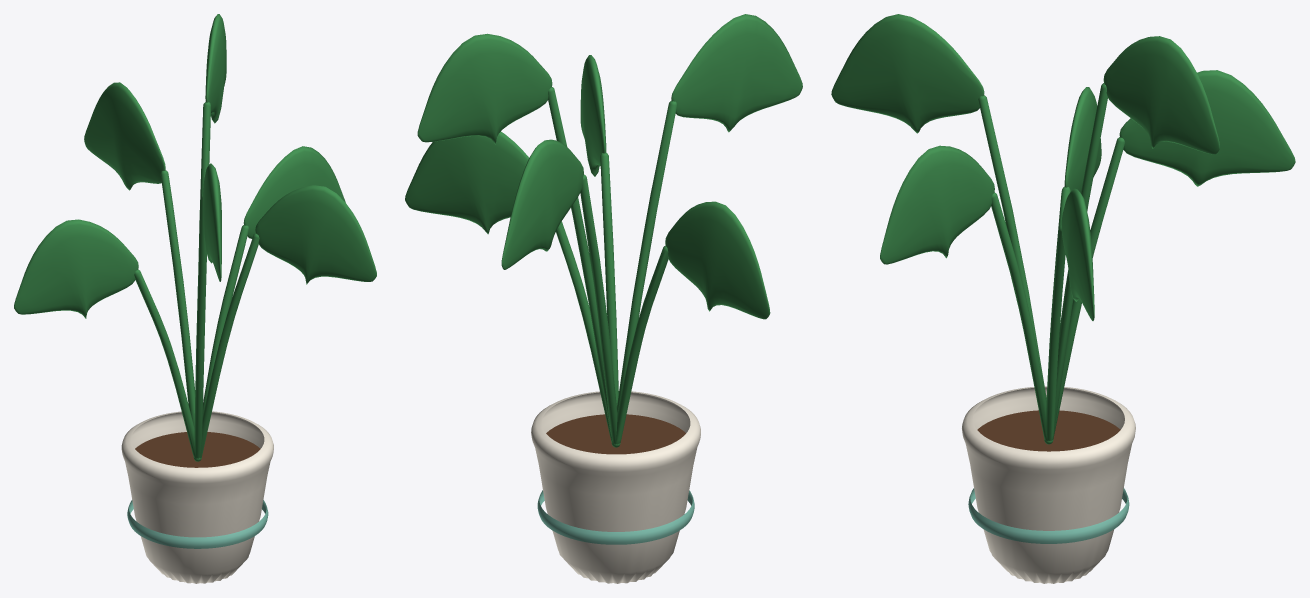
File: deco_monstera.glb
3 views of the same model, side by side, from view 1: azimuth 30°, elevation 25°; view 2: azimuth 150°, elevation 25°; view 3: azimuth 270°, elevation 25° (orthographic). The views are drawn at different scales.
Visible parts, largest first — view 1: matera.003, hoja monstera 2.001, hoja monstera 4.001, hoja monstera 1.001, hoja monstera 0.001, tierra.003, tallo monstera 1.001, tallo monstera 3.001, tallo monstera 4.001, raya matera.001, hoja monstera 5.001, hoja monstera 3.001 (+3 smaller); view 2: matera.003, hoja monstera 5.001, hoja monstera 3.001, hoja monstera 0.001, hoja monstera 2.001, hoja monstera 1.001, tierra.003, tallo monstera 3.001, tallo monstera 1.001, hoja monstera 4.001, raya matera.001, tallo monstera 4.001 (+3 smaller); view 3: matera.003, hoja monstera 3.001, hoja monstera 1.001, hoja monstera 5.001, hoja monstera 4.001, tierra.003, hoja monstera 0.001, tallo monstera 4.001, raya matera.001, hoja monstera 2.001, tallo monstera 5.001, tallo monstera 3.001 (+2 smaller).
Part boxes in pixels (x1,y1,x2,y2): matera.003: (121,411,273,583); hoja monstera 2.001: (14,219,138,318); hoja monstera 4.001: (255,185,376,284); hoja monstera 1.001: (84,82,165,190); hoja monstera 0.001: (243,146,345,238); tierra.003: (135,432,260,467); tallo monstera 1.001: (160,170,201,461); tallo monstera 3.001: (194,193,206,458); tallo monstera 4.001: (194,233,259,459); raya matera.001: (127,500,268,548); hoja monstera 5.001: (205,14,226,123); hoja monstera 3.001: (203,163,221,281); matera.003: (531,391,700,583); hoja monstera 5.001: (417,33,552,144); hoja monstera 3.001: (671,14,802,132); hoja monstera 0.001: (405,131,528,234); hoja monstera 2.001: (665,201,770,319); hoja monstera 1.001: (501,139,583,269); tierra.003: (546,414,685,454); tallo monstera 3.001: (612,100,677,446); tallo monstera 1.001: (580,174,617,443); hoja monstera 4.001: (580,55,606,176); raya matera.001: (537,490,694,544); tallo monstera 4.001: (600,152,619,447); matera.003: (962,386,1135,583); hoja monstera 3.001: (831,14,984,133); hoja monstera 1.001: (1119,70,1295,186); hoja monstera 5.001: (1103,36,1219,154); hoja monstera 4.001: (880,145,994,264); tierra.003: (977,410,1120,451); hoja monstera 0.001: (1061,188,1094,320); tallo monstera 4.001: (991,192,1047,440); raya matera.001: (968,488,1129,543); hoja monstera 2.001: (1064,87,1101,192); tallo monstera 5.001: (1052,83,1107,439); tallo monstera 3.001: (978,95,1053,444).
Size of the model in its own units: 0.9063 by 1.31 by 0.9661.
